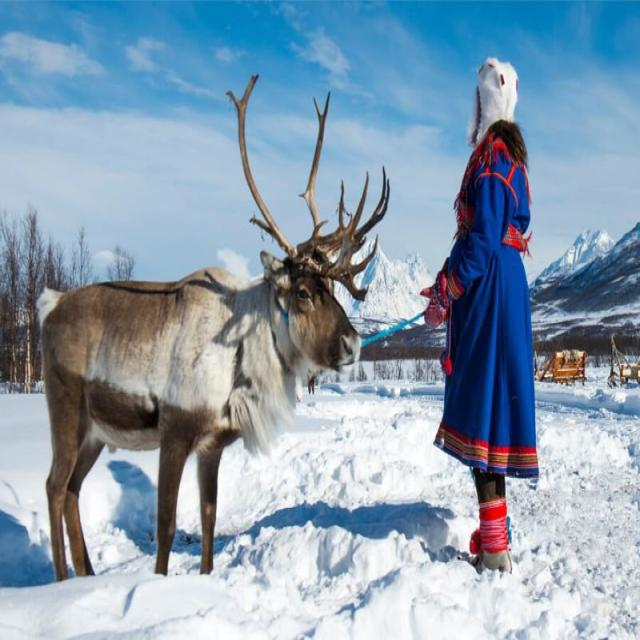Reindeer: (33, 70, 396, 598)
